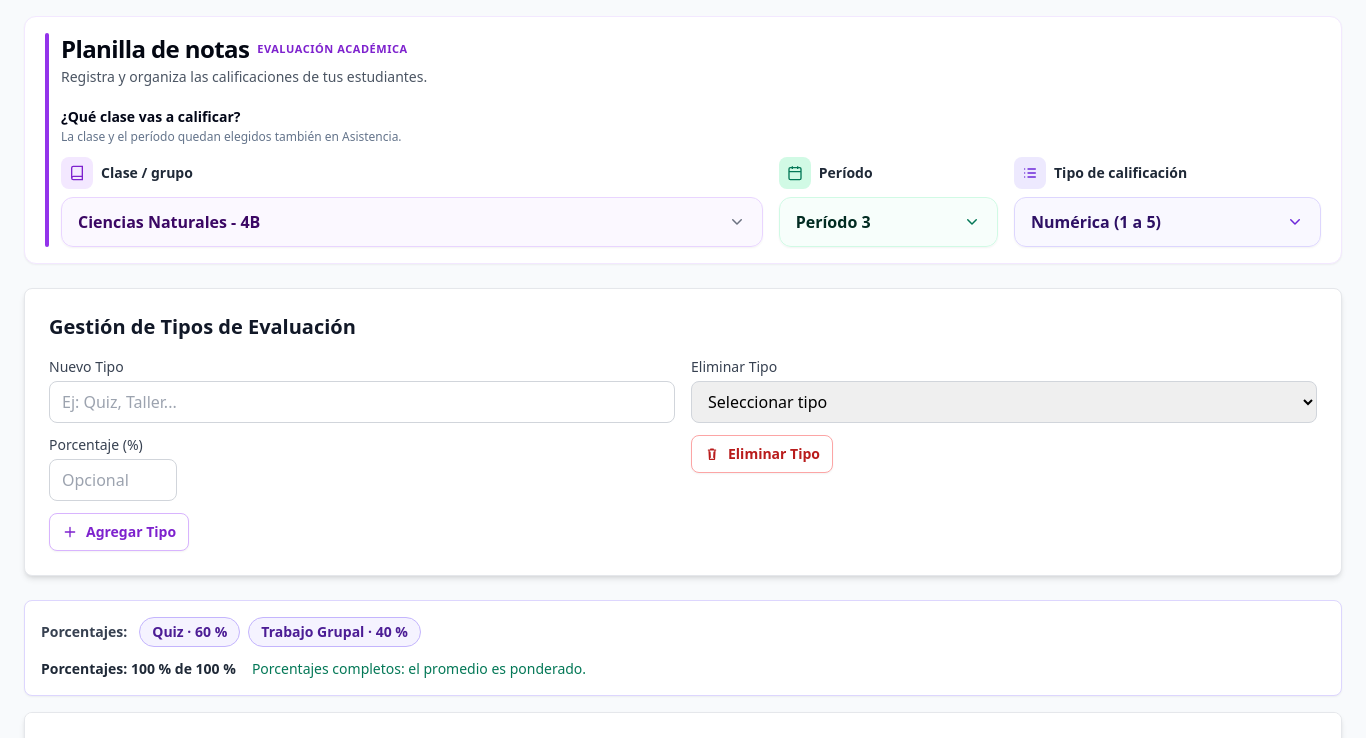
Test: porcentajes por tipo de nota en la planilla › cambiar un porcentaje lo guarda y, si ya no suman 100, vuelve el promedio simple con el aviso, sin recargar
Check: the dropdown showing "Ciencias Naturales - 4B" is shown, box x1=61 y1=197 x2=763 y2=247
Click the button with aria-label "Cambiar el porcentaje de Quiz: 60 %" at [190, 632], box x1=139 y1=617 x2=240 y2=647
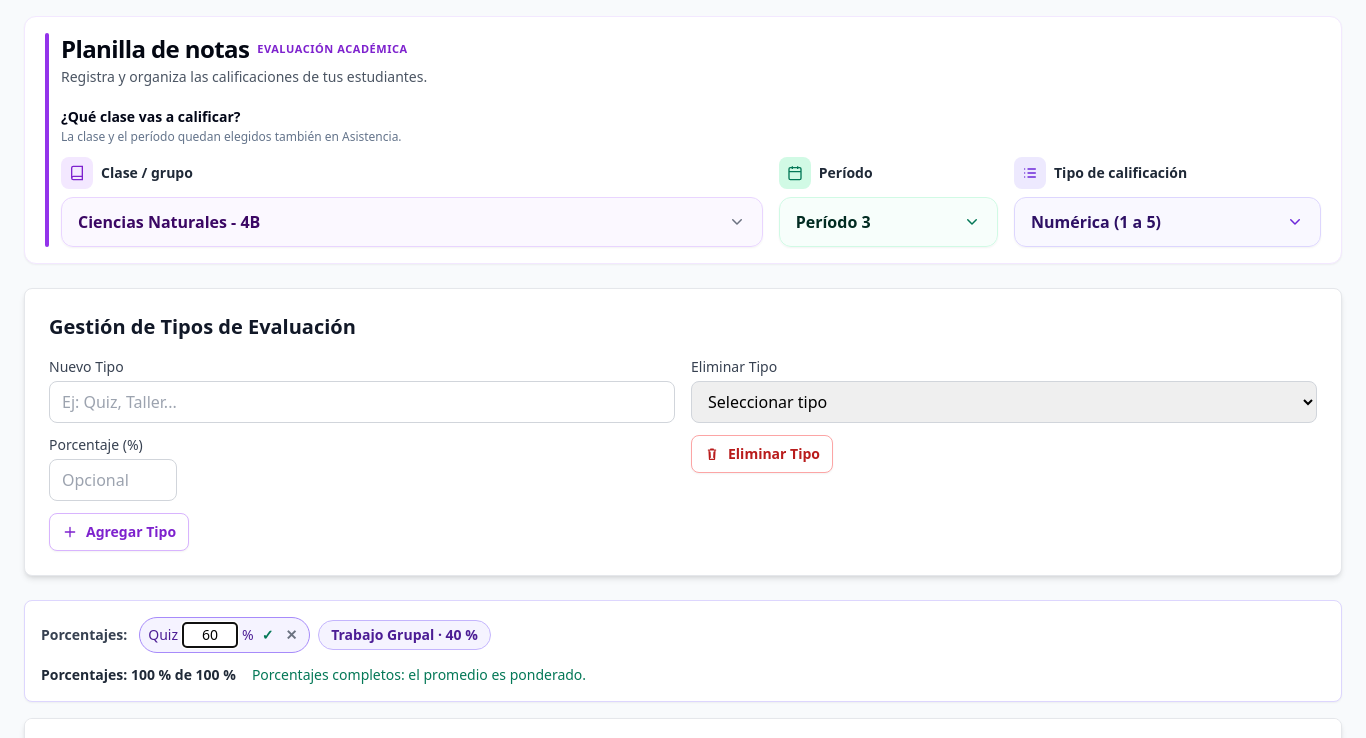
Replace the text in the field named "Porcentaje de Quiz" with "50" at [210, 635], box x1=182 y1=622 x2=238 y2=648
Then press Enter
(page scrolled)
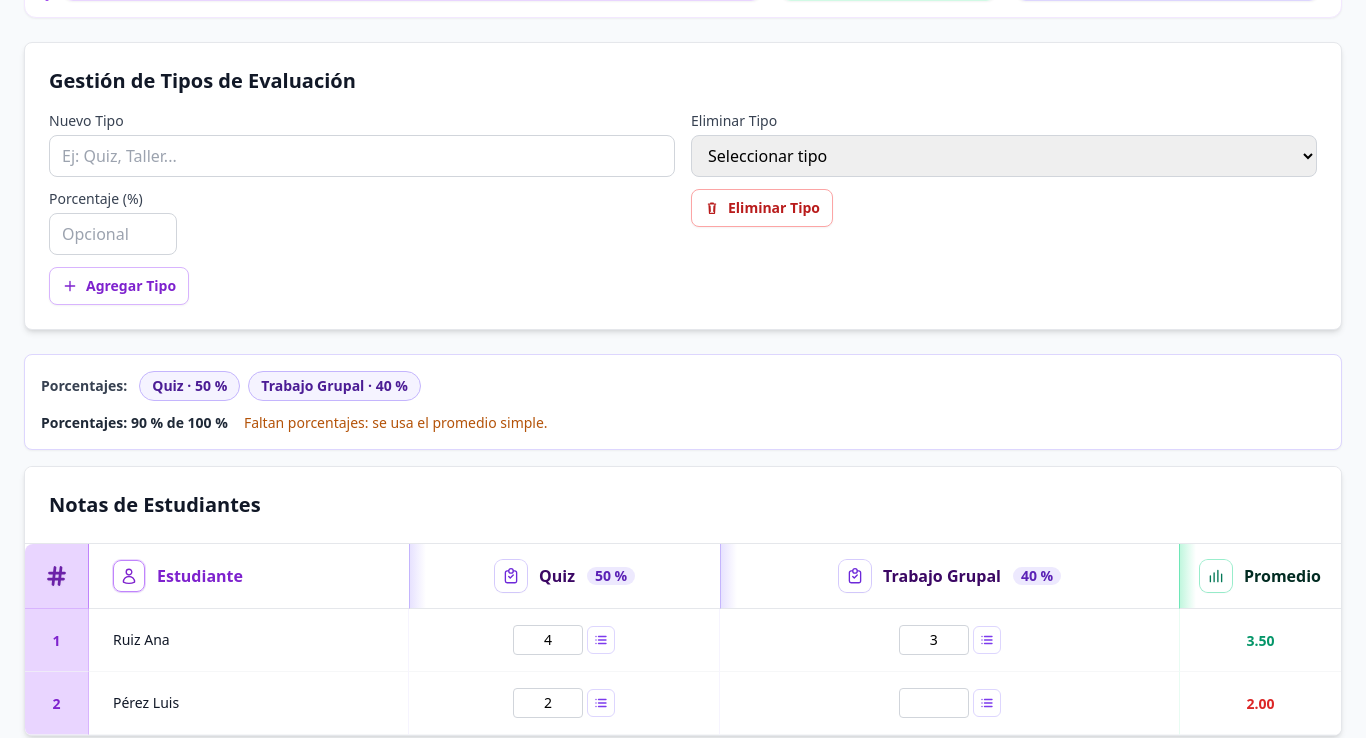
Check: the text "Porcentajes: 90 % de 100 %" is shown, box x1=41 y1=413 x2=228 y2=433
Check: the message reads "Faltan porcentajes: se usa el promedio simple.", box x1=244 y1=413 x2=548 y2=432
Check: the cell "3.50" is shown, box x1=1179 y1=609 x2=1341 y2=672
